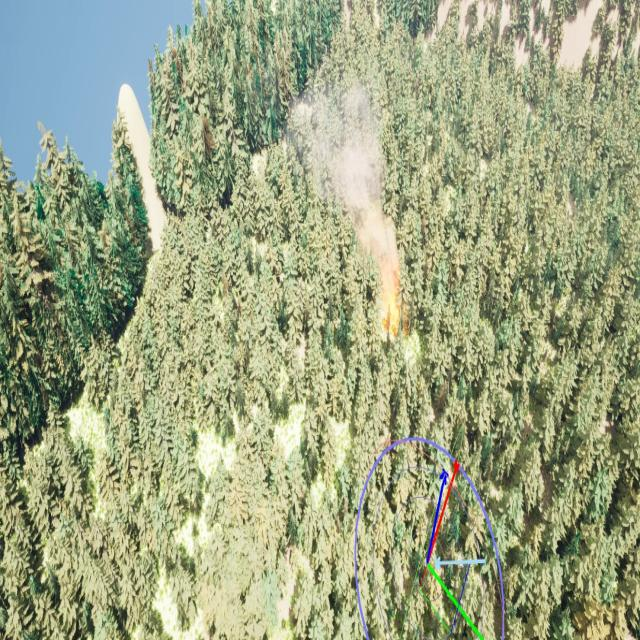fire: (379, 277, 408, 337)
smoke: (292, 80, 402, 282)
